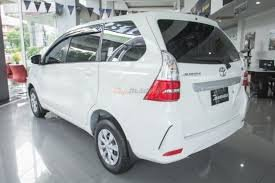mobil: (22, 13, 254, 169)
